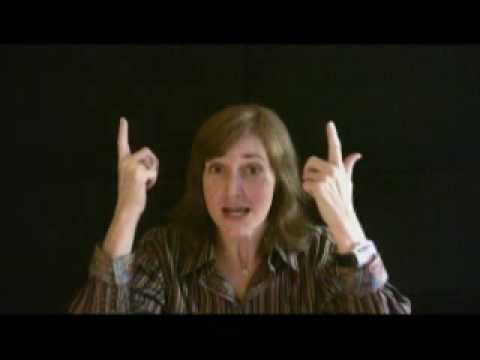finger: (326, 118, 342, 162), (132, 144, 161, 168), (116, 115, 131, 154), (303, 155, 325, 177)
